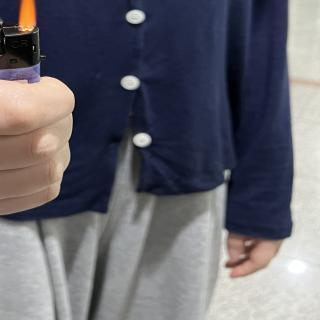fire: (17, 0, 39, 32)
